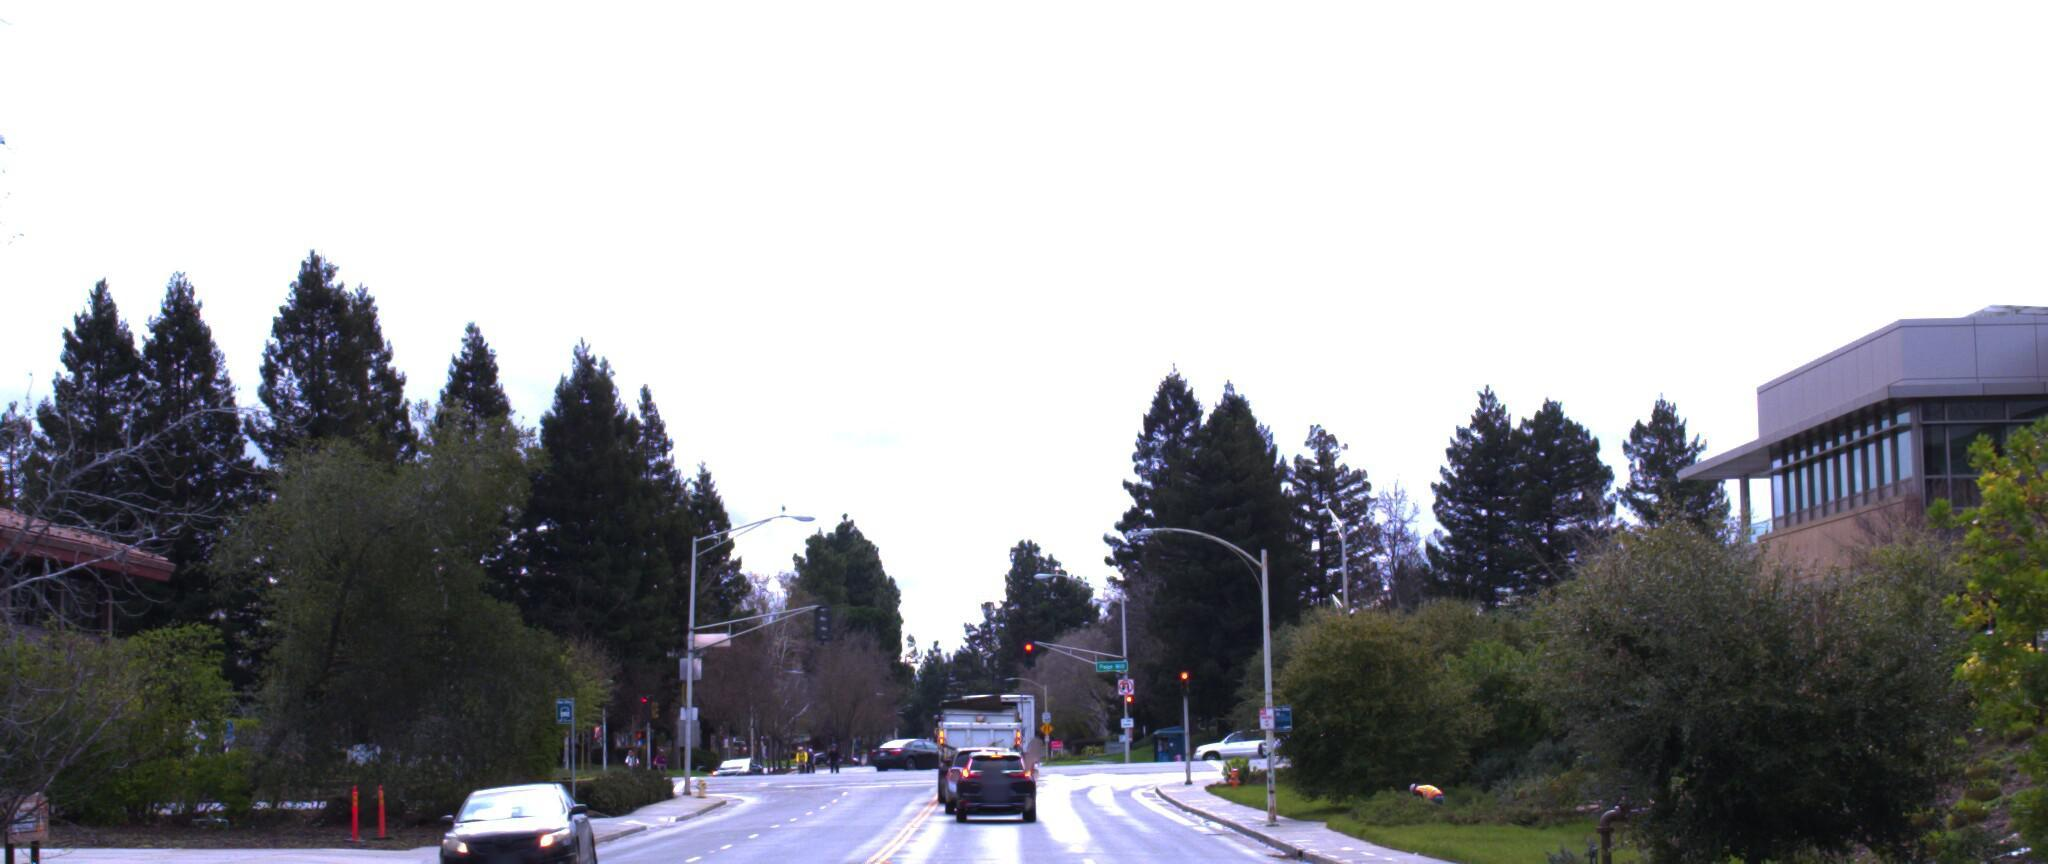car: (431, 783, 613, 864), (967, 754, 1053, 830)
